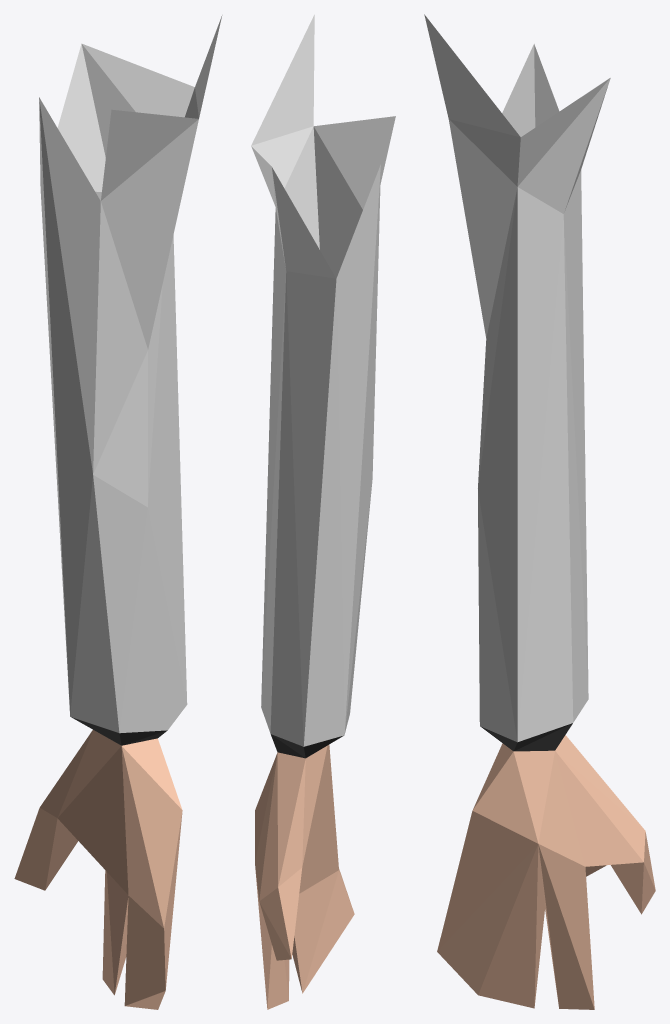
Rendered from ArmR.obj.
3 views of the same model, side by side, from view 1: azimuth 30°, elevation 25°; view 2: azimuth 150°, elevation 25°; view 3: azimuth 270°, elevation 25° (orthographic). The views are drawn at different scales.
Bounding box in the file's own units: 0.1385 × 0.9077 × 0.1877.
1 material, 1 textured.
